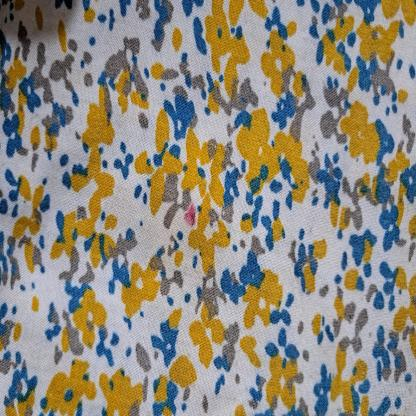spot: (180, 195, 198, 233)
